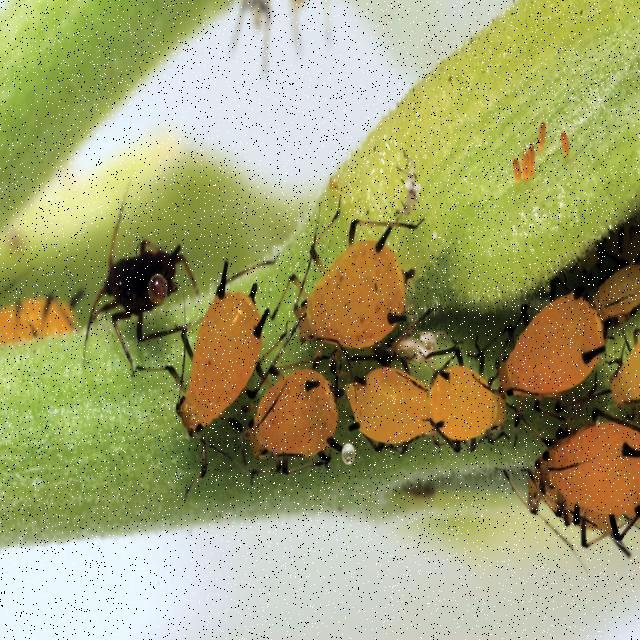Aphids: (140, 250, 278, 530), (520, 394, 640, 590), (287, 212, 432, 374), (222, 350, 352, 513), (499, 274, 613, 418), (343, 349, 448, 499), (402, 332, 512, 471)
